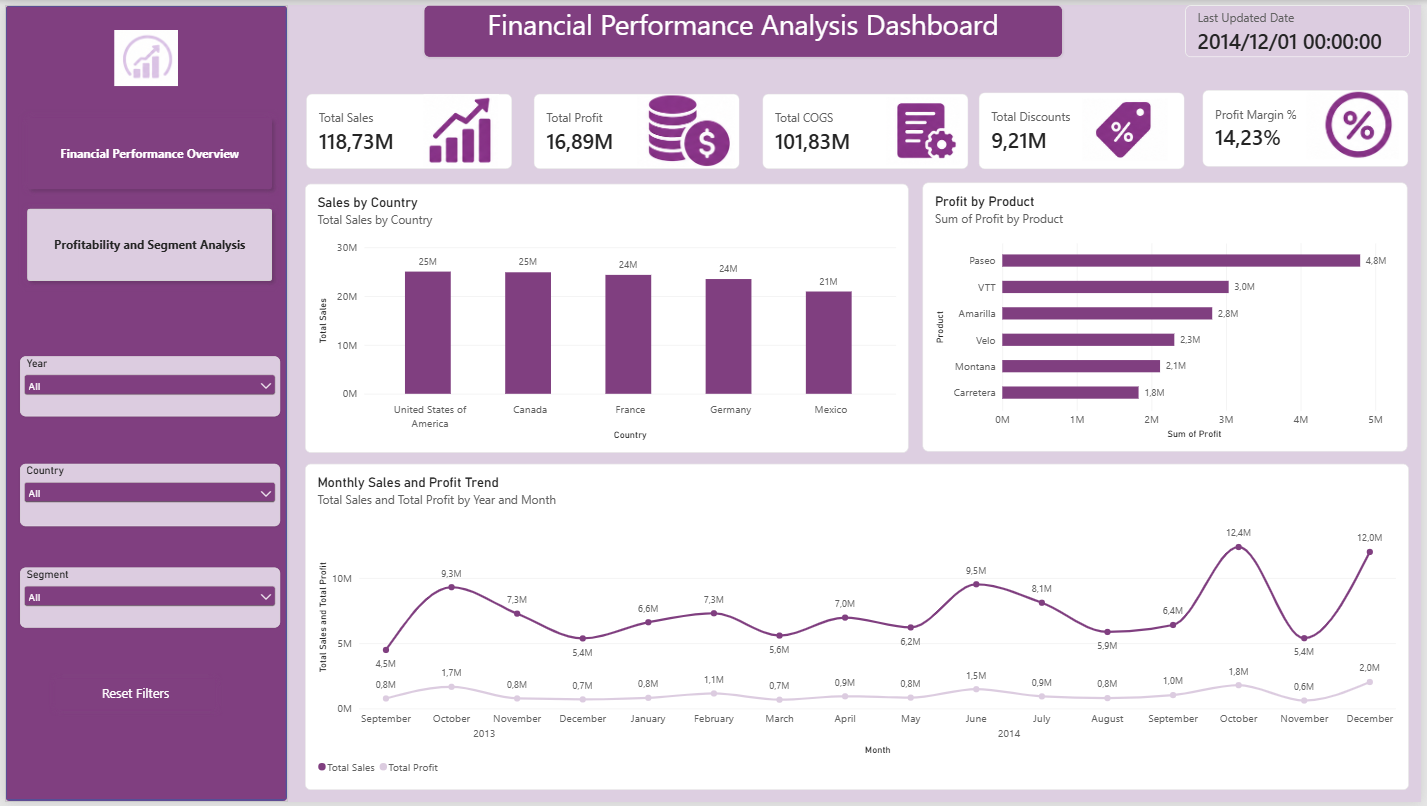

The page's visual inventory and layout, read from the dashboard file:
{"tool":"powerbi","page":{"name":"Financial Performance Overview","canvas":[1920,1080],"ordinal":0},"visuals":[{"type":"cardVisual","fields":{"Data":["FinancialData.Total Sales"]},"box":[408.8,120.4,279.9,102.9],"z":0,"group":"g2"},{"type":"cardVisual","fields":{"Data":["FinancialData.Total Profit"]},"box":[717.7,120.4,279.9,102.9],"z":1,"group":"g3"},{"type":"cardVisual","fields":{"Data":["FinancialData.Total COGS"]},"box":[1026.6,120.4,279.9,102.9],"z":2,"group":"g4"},{"type":"cardVisual","fields":{"Data":["FinancialData.Total Discounts"]},"box":[1320.5,118.7,279.9,105],"z":3,"group":"g5"},{"type":"cardVisual","fields":{"Data":["FinancialData.Profit Margin %"]},"box":[1624.4,115.5,279.9,105],"z":4,"group":"g6"},{"type":"clusteredColumnChart","title":"Sales by Country","fields":{"Category":["FinancialData.Country"],"Y":["FinancialData.Total Sales"]},"box":[406.8,242.4,818.6,364.4],"z":5},{"type":"clusteredBarChart","title":"Profit by Product","fields":{"Category":["FinancialData.Product"],"Y":["Sum(FinancialData.Profit)"]},"box":[1244.4,241,657.6,364.4],"z":6},{"type":"lineChart","title":"Monthly Sales and Profit Trend","fields":{"Category":["FinancialData.Date.Variation.Date Hierarchy.Year","FinancialData.Date.Variation.Date Hierarchy.Month"],"Y":["FinancialData.Total Sales","FinancialData.Total Profit"]},"box":[406.8,622,1496.6,442.4],"z":7},{"type":"textbox","box":[567.8,0,866.1,71.2],"z":8},{"type":"shape","box":[0,0,383.1,1079.7],"z":9,"group":"g1"},{"type":"slicer","fields":{"Values":["FinancialData.Segment"]},"box":[20.3,762.7,352.5,81.4],"z":10,"group":"g1"},{"type":"slicer","fields":{"Values":["FinancialData.Country"]},"box":[20.3,622,352.5,84.7],"z":11,"group":"g1"},{"type":"slicer","fields":{"Values":["FinancialData.Year"]},"box":[20.3,476.3,352.5,81.4],"z":12,"group":"g1"},{"type":"pageNavigator","box":[20.3,142.4,352.5,242.4],"z":13,"group":"g1"},{"type":"image","box":[145.8,33.9,91.5,76.3],"z":14,"group":"g1"},{"type":"actionButton","box":[59.3,903.4,235.6,61],"z":16,"group":"g1"},{"type":"group","id":"g1","title":"Group 1","box":[0,0,383.1,1079.7],"z":17},{"type":"image","box":[567.8,120.3,101.7,100],"z":18,"group":"g2"},{"type":"group","id":"g2","title":"Group 2","box":[408.8,120.3,279.9,103],"z":19},{"type":"image","box":[857.6,118.6,132.2,105.1],"z":20,"group":"g3"},{"type":"group","id":"g3","title":"Group 3","box":[717.7,118.6,279.9,105.1],"z":21},{"type":"image","box":[1191.5,125.4,106.8,91.5],"z":22,"group":"g4"},{"type":"group","id":"g4","title":"Group 4","box":[1026.6,120.4,279.9,102.9],"z":23},{"type":"image","box":[1461,118.6,115.3,100],"z":24,"group":"g5"},{"type":"group","id":"g5","title":"Group 5","box":[1320.5,118.6,279.9,105.1],"z":25},{"type":"image","box":[1764.4,115.3,125.4,96.6],"z":26,"group":"g6"},{"type":"group","id":"g6","title":"Group 6","box":[1624.4,115.3,279.9,105.1],"z":27},{"type":"cardVisual","fields":{"Data":["FinancialData.Last Updated Date"]},"box":[1600,0,305.1,71.2],"z":28}]}

Visuals, with their boxes in screenshot pixels (x1, y1, x2, y2), scaled from the page's 1920x1080 canvas onto the 1427x806 screenshot:
cardVisual - FinancialData.Total Sales: [304,90,512,167]
cardVisual - FinancialData.Total Profit: [533,90,741,167]
cardVisual - FinancialData.Total COGS: [763,90,971,167]
cardVisual - FinancialData.Total Discounts: [981,89,1189,167]
cardVisual - FinancialData.Profit Margin %: [1207,86,1415,165]
"Sales by Country" clusteredColumnChart: [302,181,911,453]
"Profit by Product" clusteredBarChart: [925,180,1414,452]
"Monthly Sales and Profit Trend" lineChart: [302,464,1415,794]
textbox: [422,0,1066,53]
shape: [0,0,285,805]
slicer - FinancialData.Segment: [15,569,277,630]
slicer - FinancialData.Country: [15,464,277,527]
slicer - FinancialData.Year: [15,355,277,416]
pageNavigator: [15,106,277,287]
image: [108,25,176,82]
actionButton: [44,674,219,720]
"Group 1" group: [0,0,285,805]
image: [422,90,498,164]
"Group 2" group: [304,90,512,167]
image: [637,89,736,167]
"Group 3" group: [533,89,741,167]
image: [886,94,965,162]
"Group 4" group: [763,90,971,167]
image: [1086,89,1172,163]
"Group 5" group: [981,89,1189,167]
image: [1311,86,1405,158]
"Group 6" group: [1207,86,1415,164]
cardVisual - FinancialData.Last Updated Date: [1189,0,1416,53]
